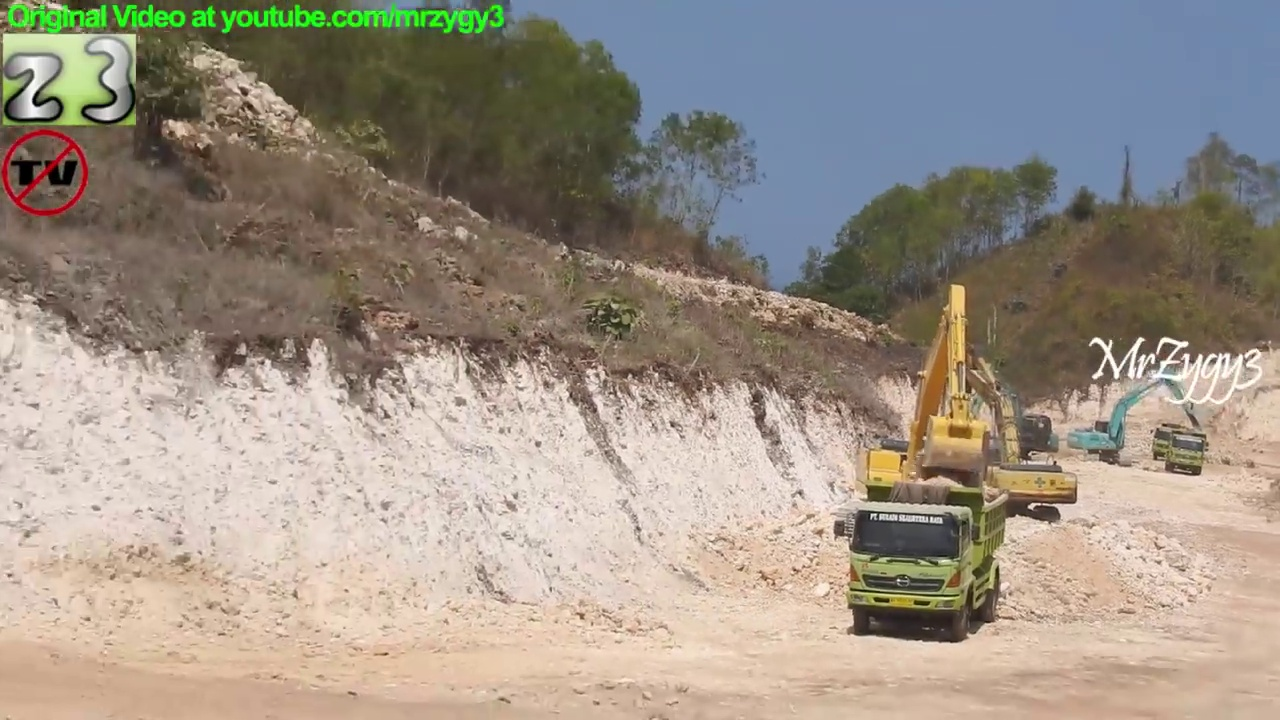excavator: (840, 283, 1010, 545), (912, 348, 1082, 528), (1065, 362, 1205, 471), (946, 361, 1065, 488)
truck: (833, 476, 1013, 641), (1162, 428, 1212, 478), (1147, 416, 1195, 465)
